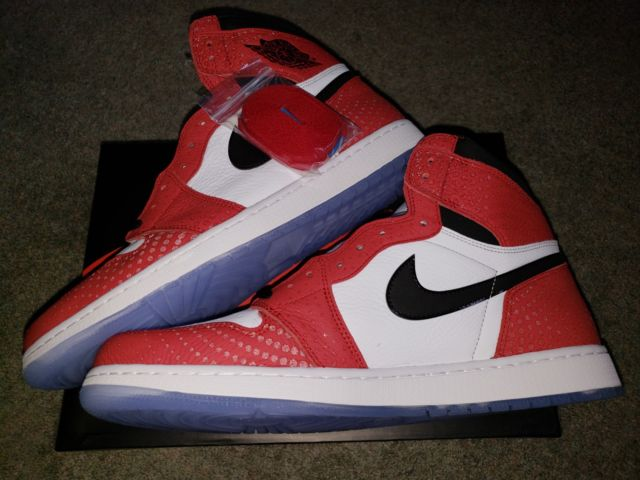Air Jordan 1 Spiderman: (70, 129, 630, 432), (15, 6, 426, 394)
